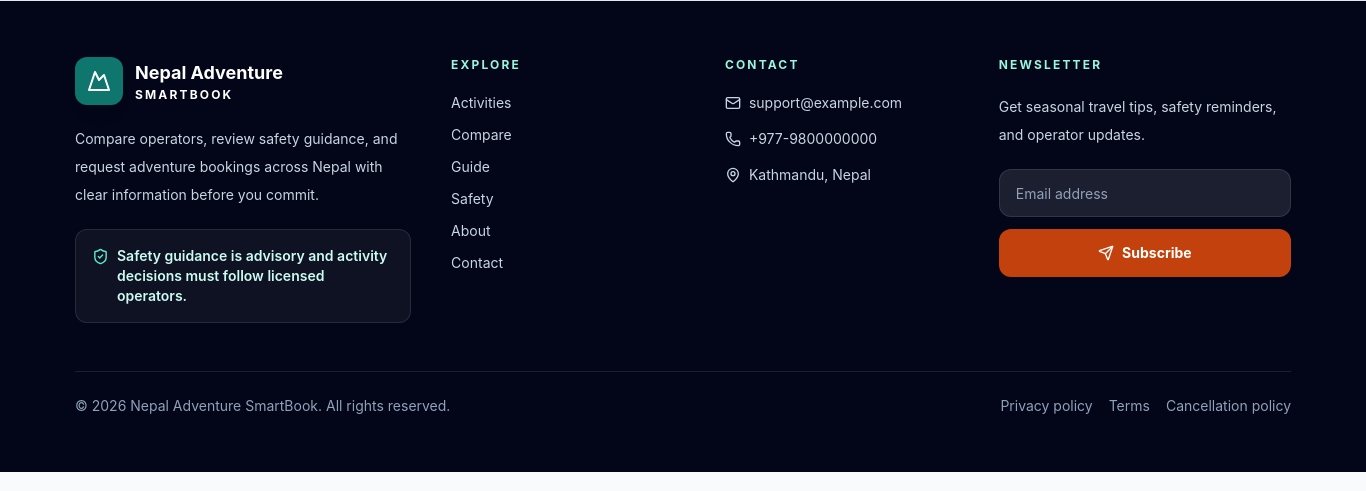
Test case: footer newsletter form › retains the email and announces backend failures
Type "guest@example.com" into the field named "newsletter email address". click: [1145, 193]
box: [999,169,1291,217]
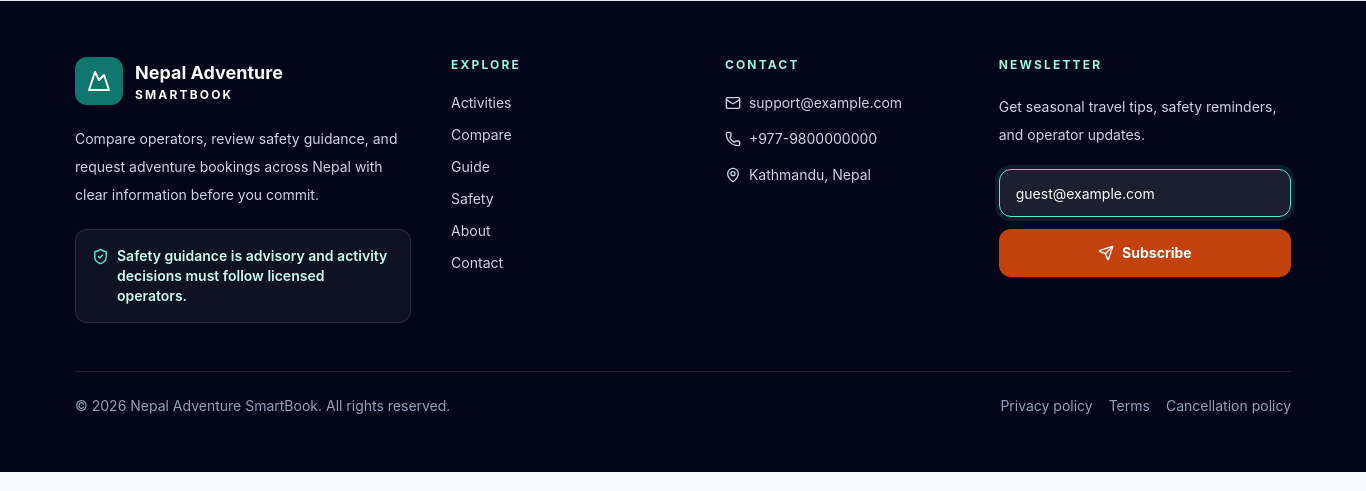
Click the button "Subscribe". click: [1145, 253]
box: [999,229,1291,277]
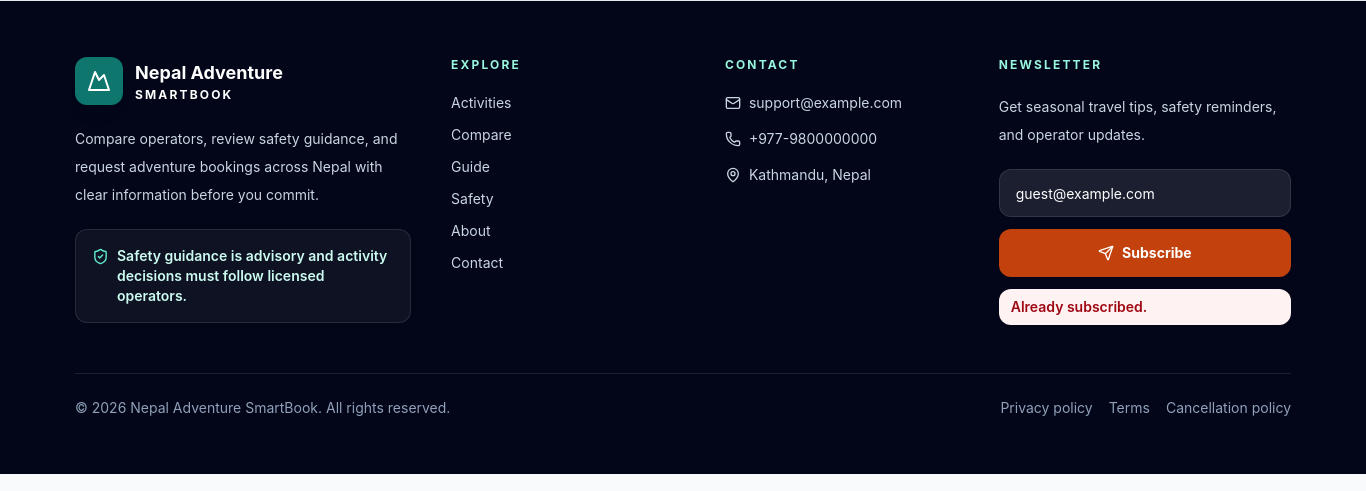
Check: the message reads "Already subscribed.", box [1011,298,1147,315]
